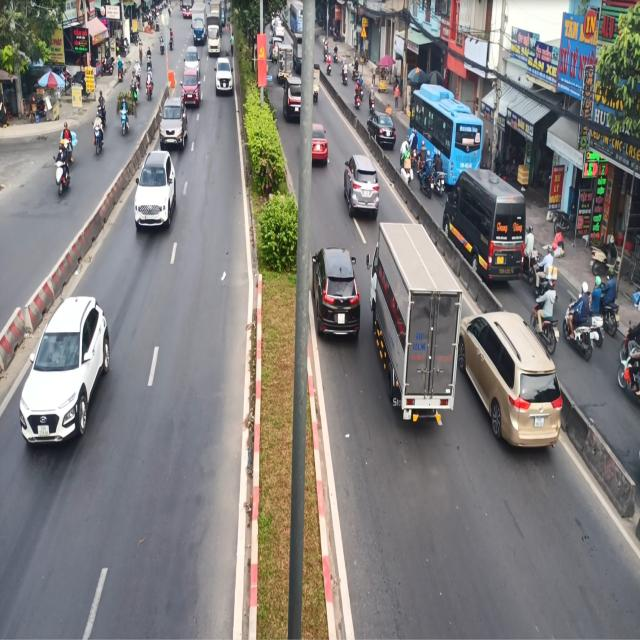car: (16, 290, 117, 462), (314, 241, 364, 344), (134, 148, 182, 252), (348, 146, 383, 222), (160, 90, 187, 146), (214, 51, 235, 97), (216, 51, 233, 96)
